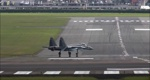maybay_muctieu: (47, 38, 93, 57)
